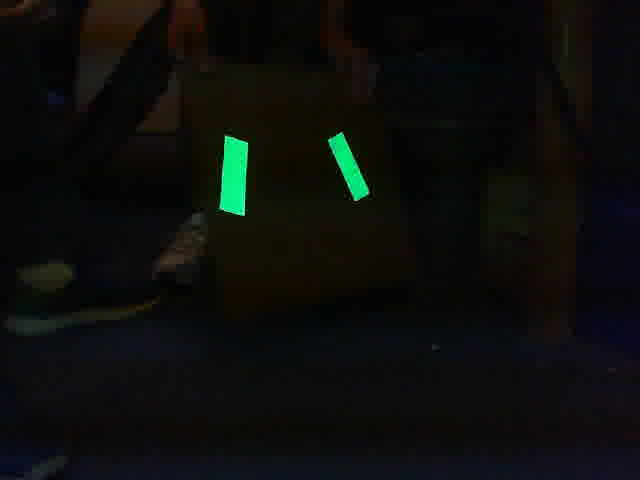target: (219, 131, 373, 217)
